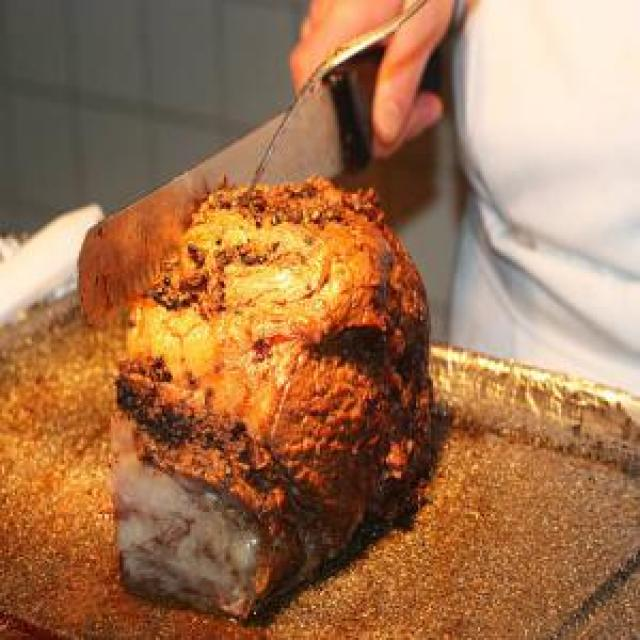knife: (213, 0, 460, 226)
